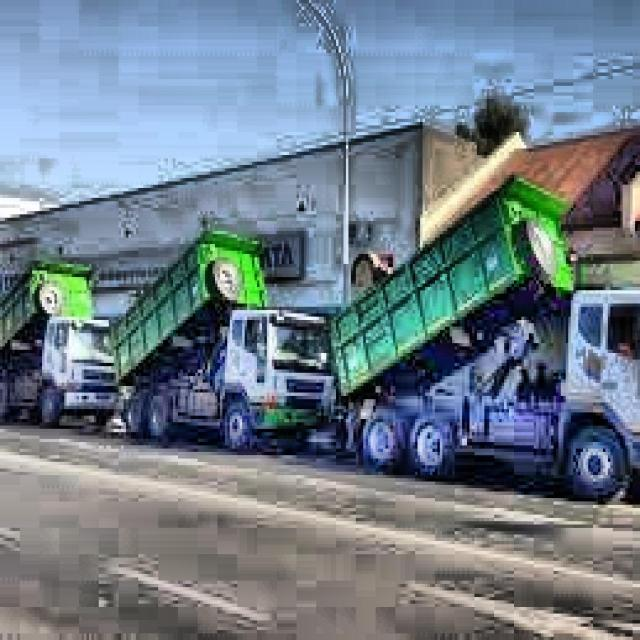dump_truck: (326, 170, 640, 498), (107, 233, 335, 445), (0, 259, 126, 433)
